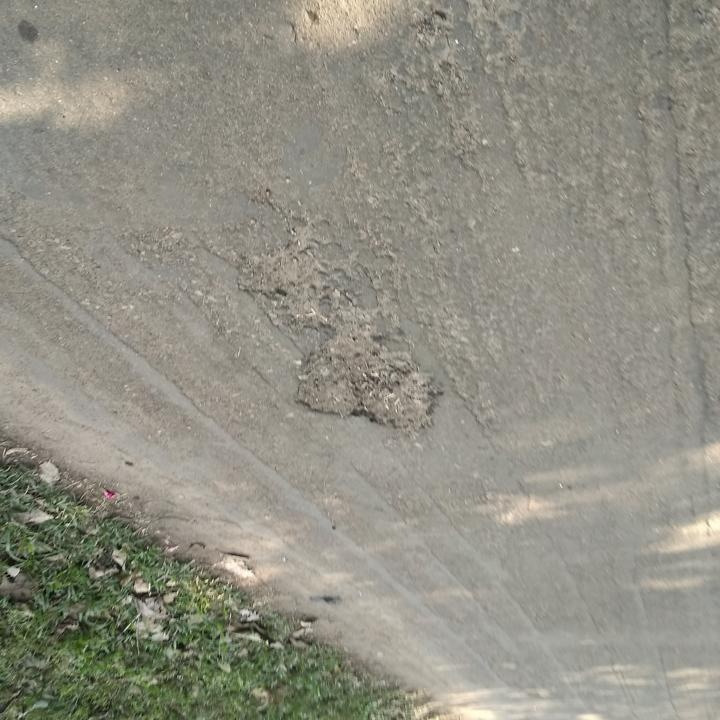pothole: (280, 333, 447, 437), (231, 226, 333, 333)
